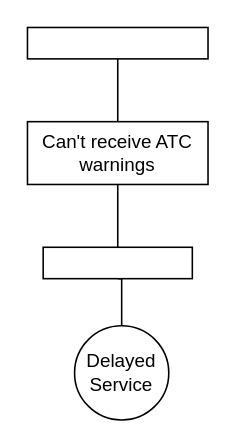
The diagram is 236 pixels wide and 447 high, and some of its shapes have lost their labels. Here are the shapes that lost their labels. From the top down, the box of each, then its label:
(26, 26, 208, 59): Evently
(42, 246, 192, 279): DOS attack
